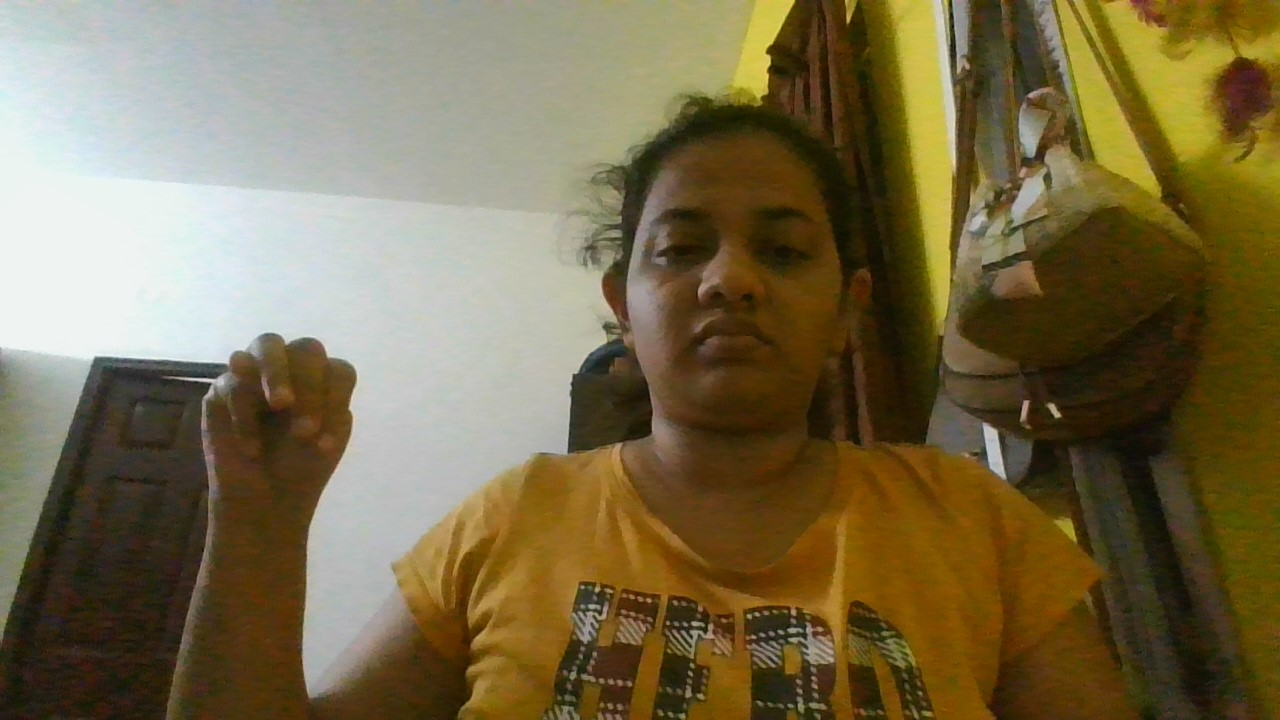m: (190, 321, 370, 534)
